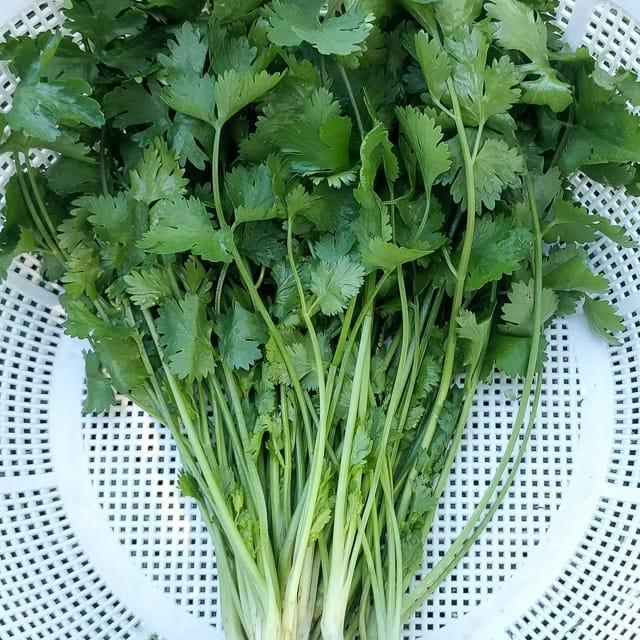cilantro: (0, 0, 601, 345)
